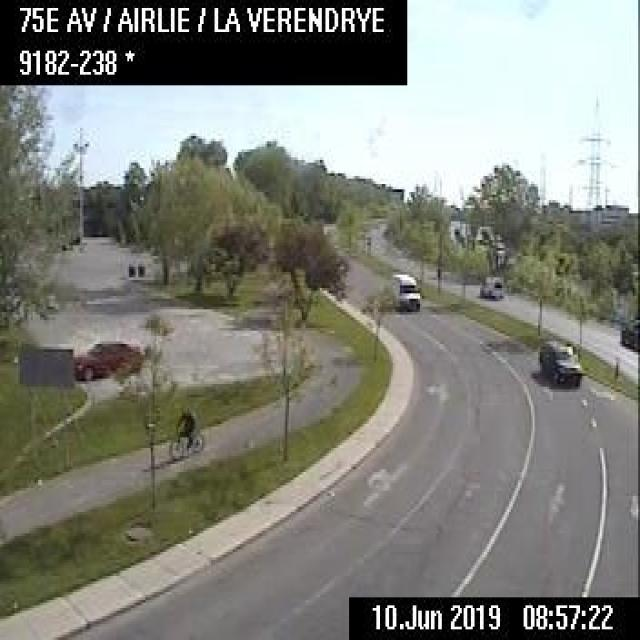cyclist: (168, 403, 204, 456)
vehicle: (71, 336, 143, 379), (535, 336, 582, 387), (389, 267, 420, 309), (616, 315, 638, 352), (478, 272, 503, 297)
